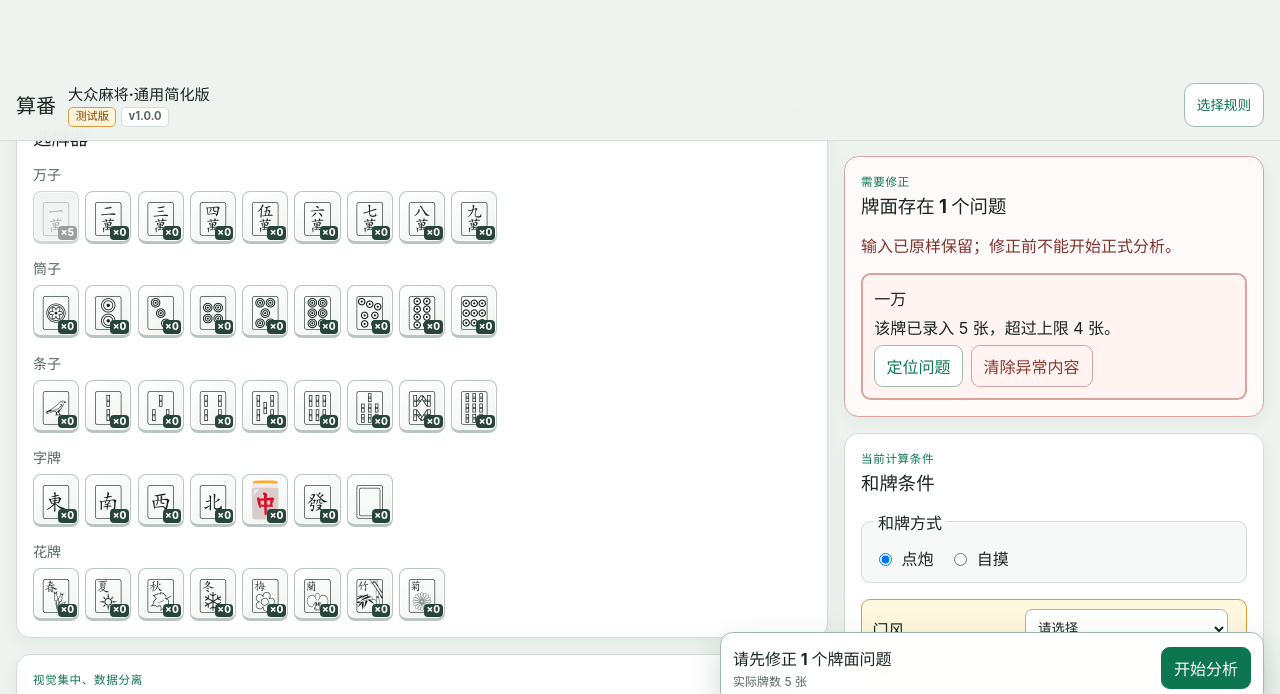
it: CalculatorPage Batch 13 interaction › highlights preserved correction issues and clears only after explicit action
Expected: the message shows "输入已原样保留", [861,236,1181,256]
Click the button "定位问题" at [918, 366], box [874,345,963,387]
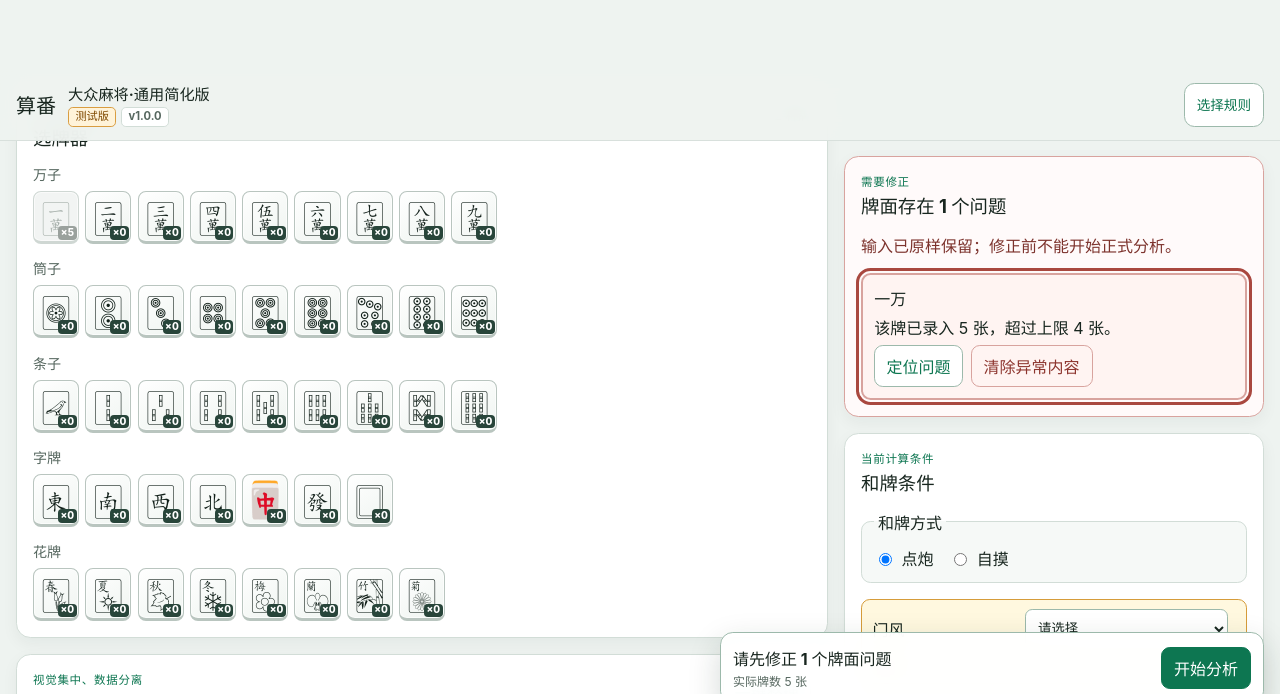
Click the button "清除异常内容" at [1032, 366], box [971,345,1093,387]
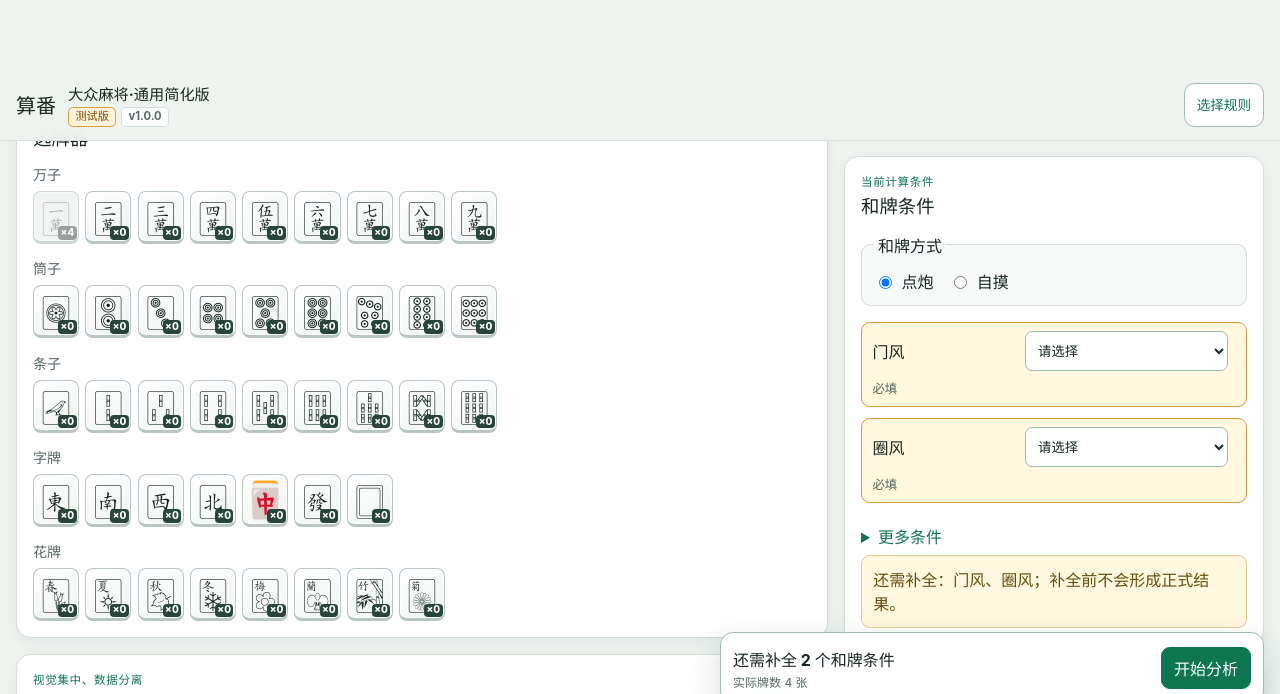
Expected: the heading "牌面存在 1 个问题" is gone
